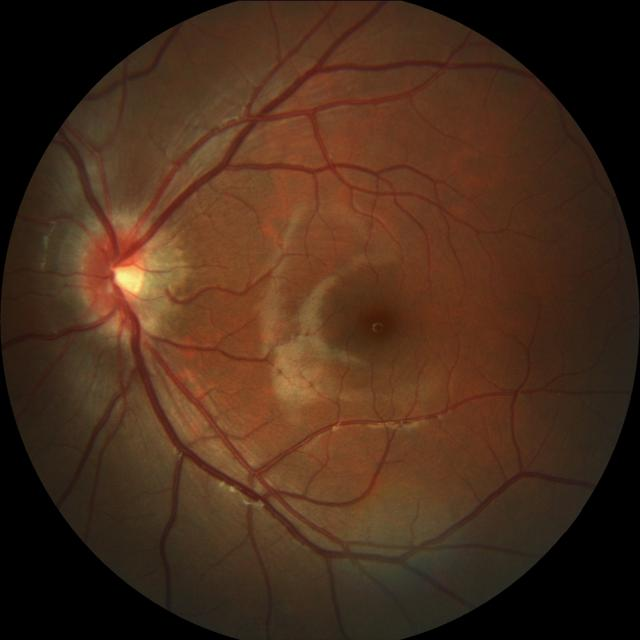OC: (109, 257, 144, 292)
OD: (78, 228, 146, 316)
